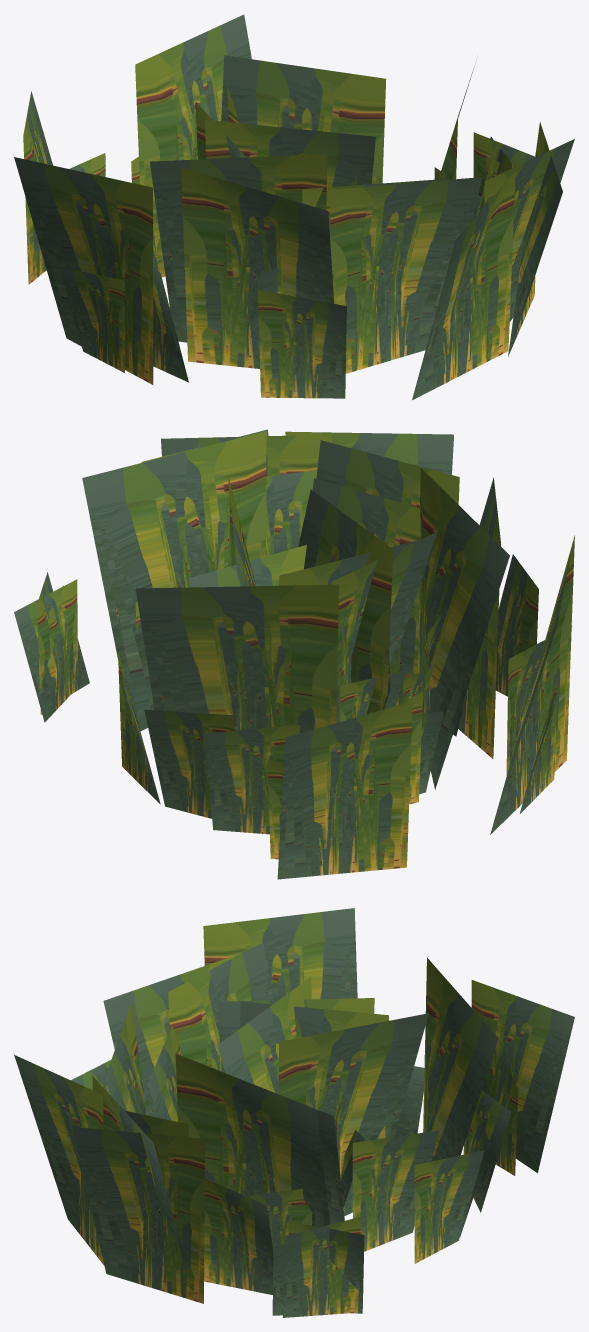
Rendered from grass_001.glb.
3 renders of one model, top to bottom at view 1: azimuth 30°, elevation 25°; view 2: azimuth 150°, elevation 25°; view 3: azimuth 270°, elevation 25°, orthographic. The views are drawn at different scales.
Visible parts, largest first — view 1: Grass_B_Low_Dense; view 2: Grass_B_Low_Dense; view 3: Grass_B_Low_Dense.
Part boxes in pixels (x1=…): Grass_B_Low_Dense: x1=14, y1=14, x2=574, y2=400; Grass_B_Low_Dense: x1=14, y1=429, x2=574, y2=879; Grass_B_Low_Dense: x1=14, y1=908, x2=574, y2=1317.
Size of the model in its own units: 0.5698 by 0.2489 by 0.5773.
1 material, 1 textured.
